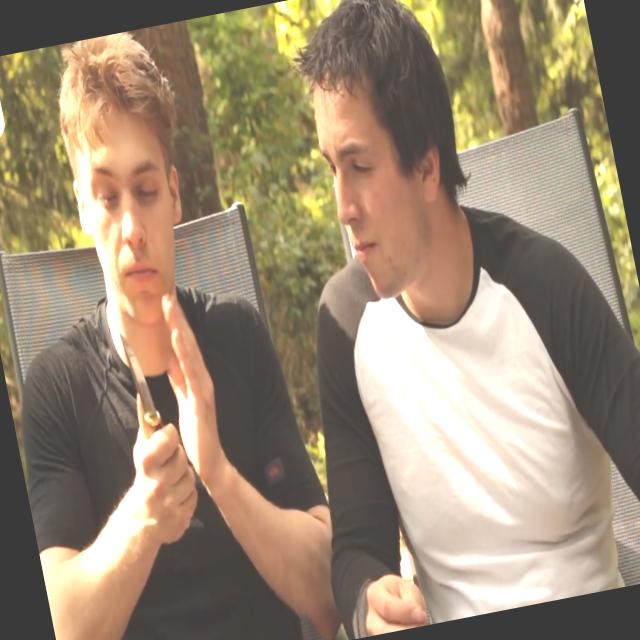knife: (96, 300, 202, 507)
